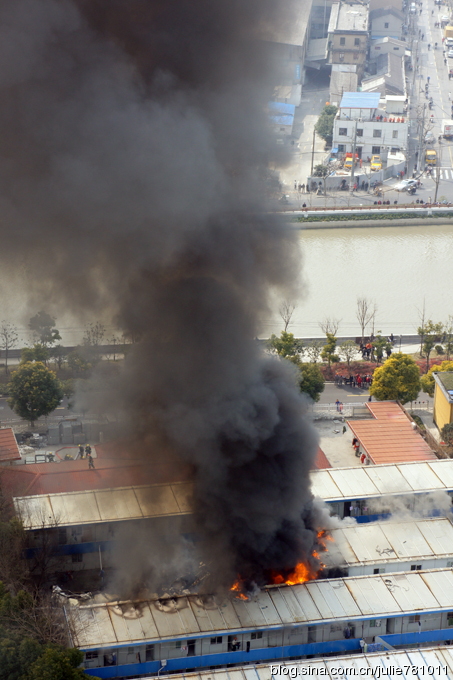fire: (260, 546, 335, 590)
smoke: (32, 20, 303, 516)
